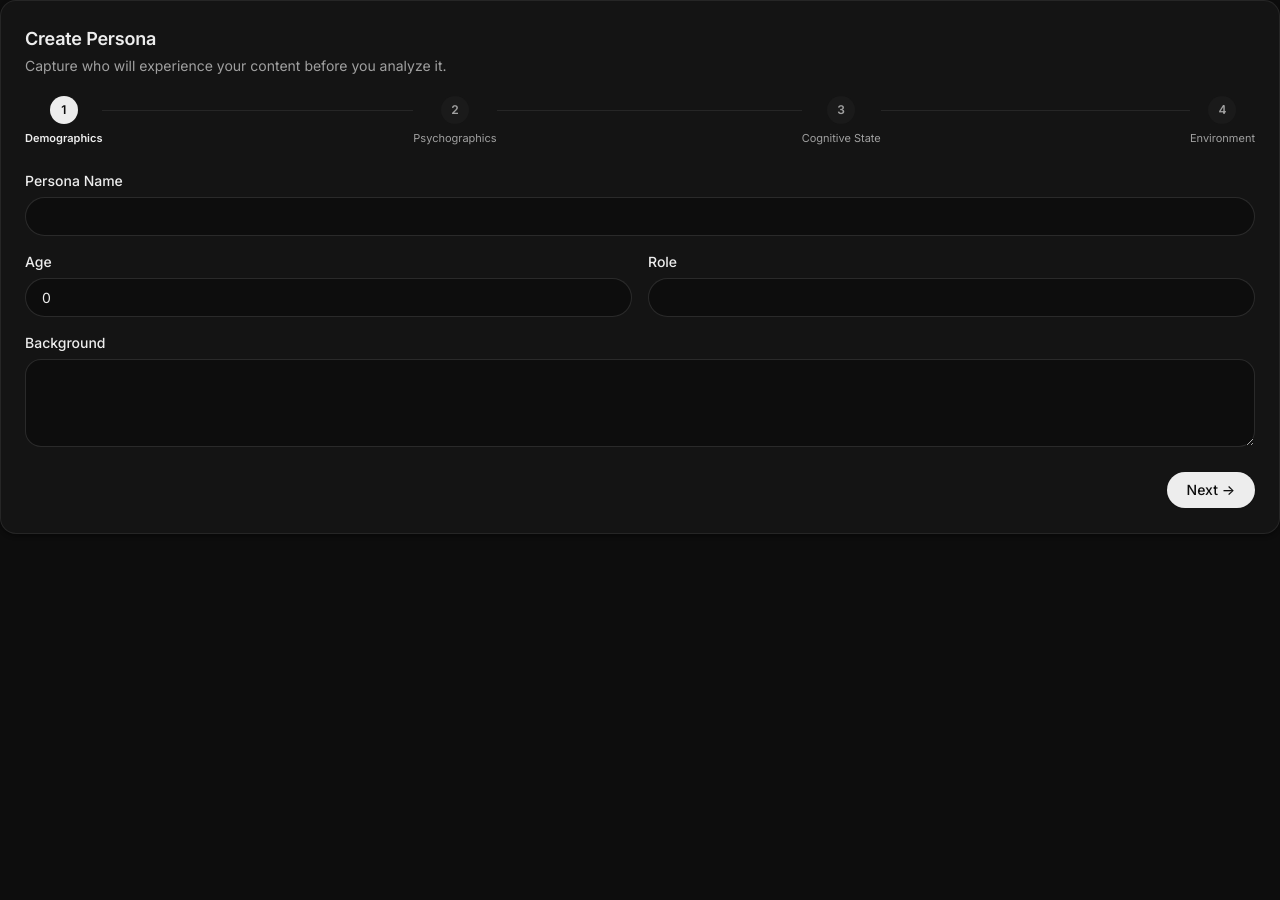
it: PersonaForm › advances to Psychographics step after valid demographics input
The image size is (1280, 900).
Type "Focused Designer" into the field labelled "Persona Name".
click(640, 216); type("Focused Designer")  # box [25,196,1255,236]
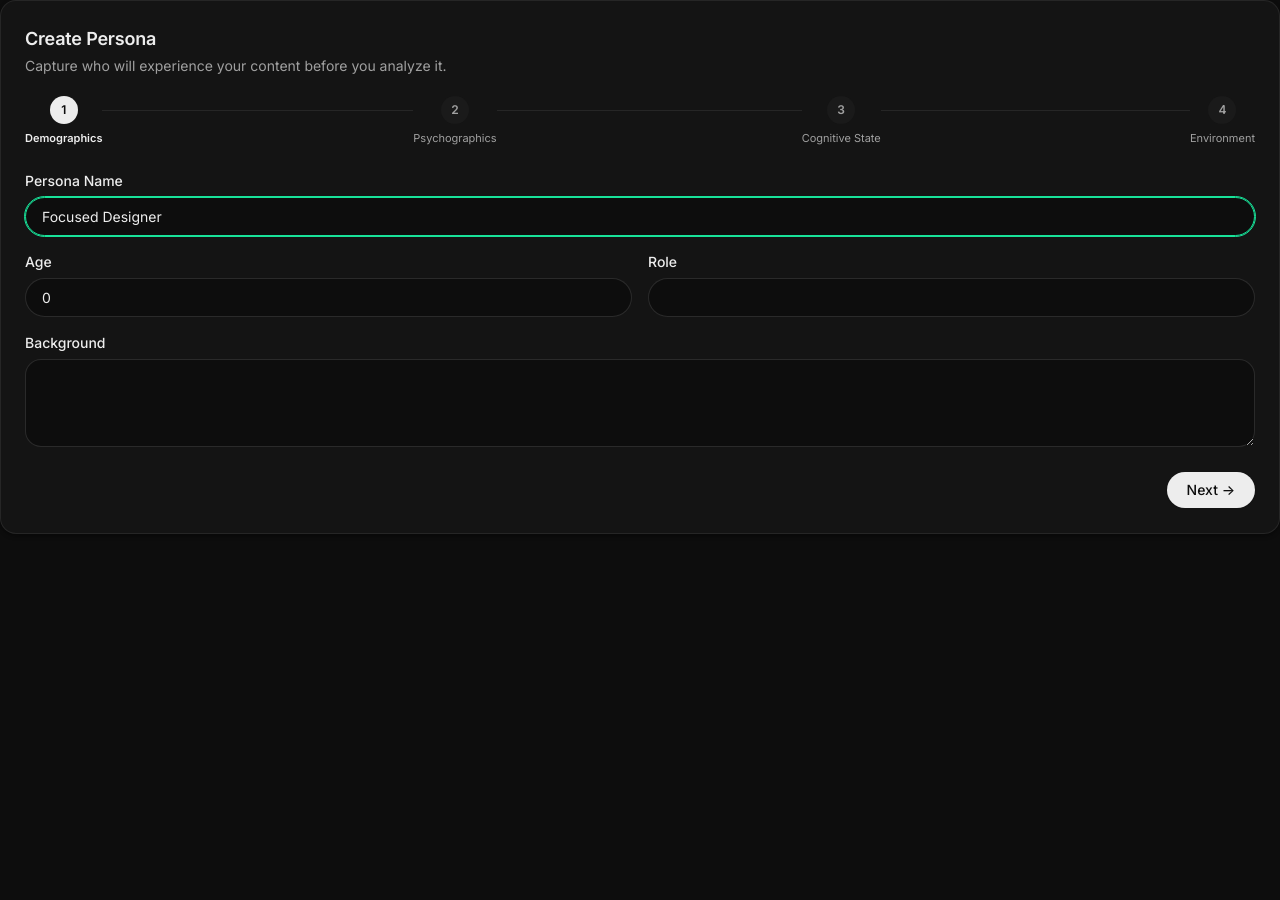
Type "29" into the number field labelled "Age".
click(328, 297); type("29")  # box [25,278,632,316]
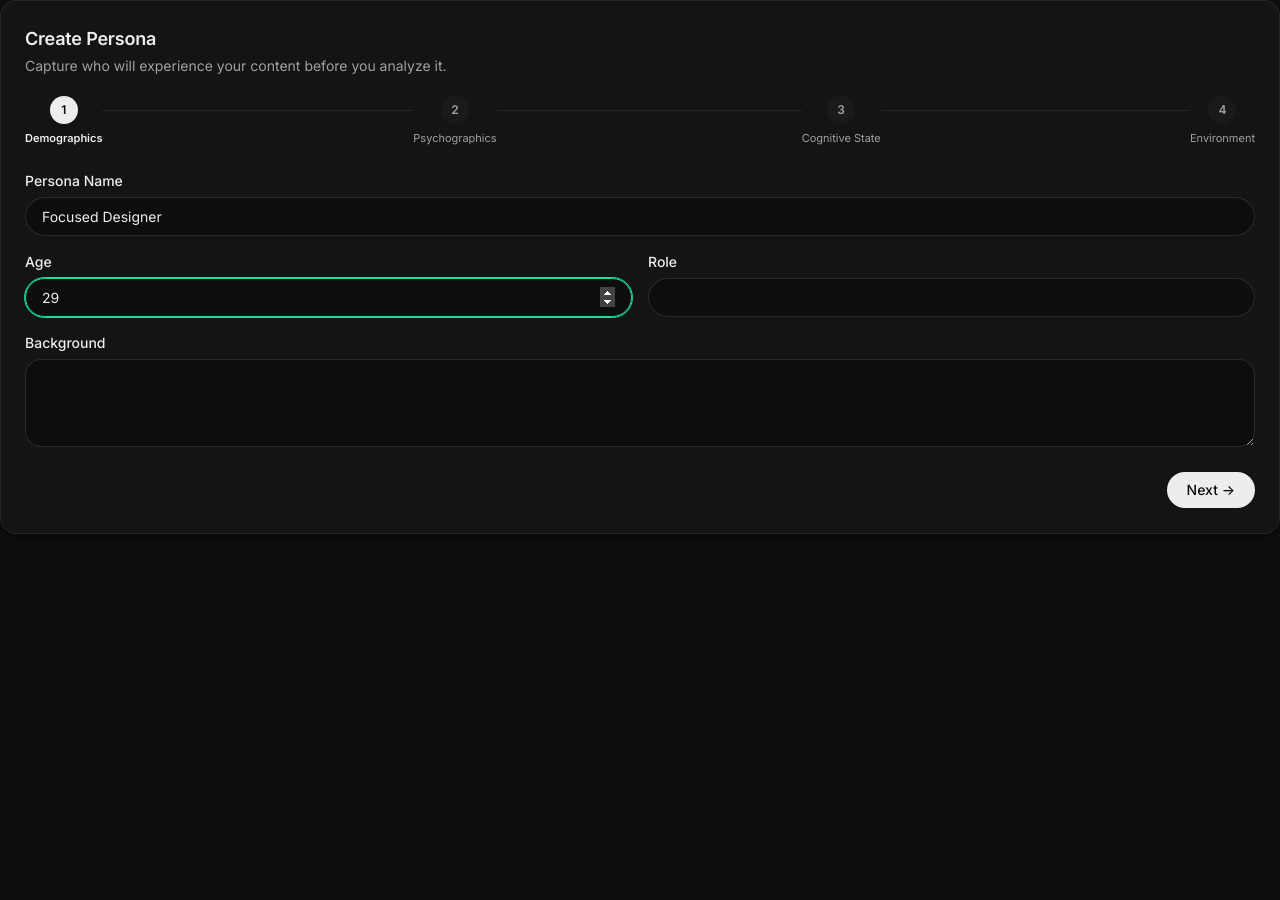
Type "Product Designer" into the field labelled "Role".
click(952, 297); type("Product Designer")  # box [648,278,1255,316]
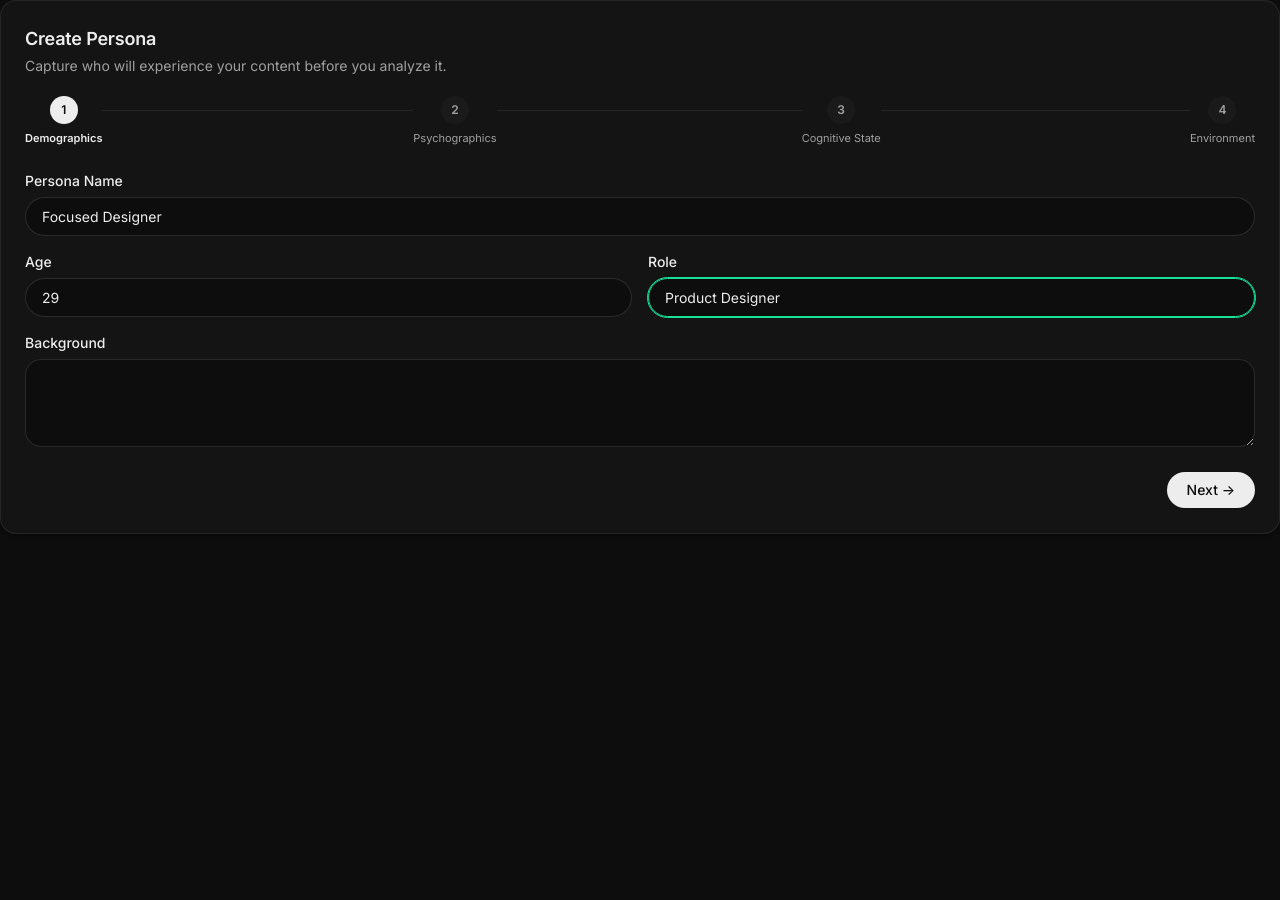
Click the button "Next →".
click(1211, 490)  # box [1167,472,1255,508]
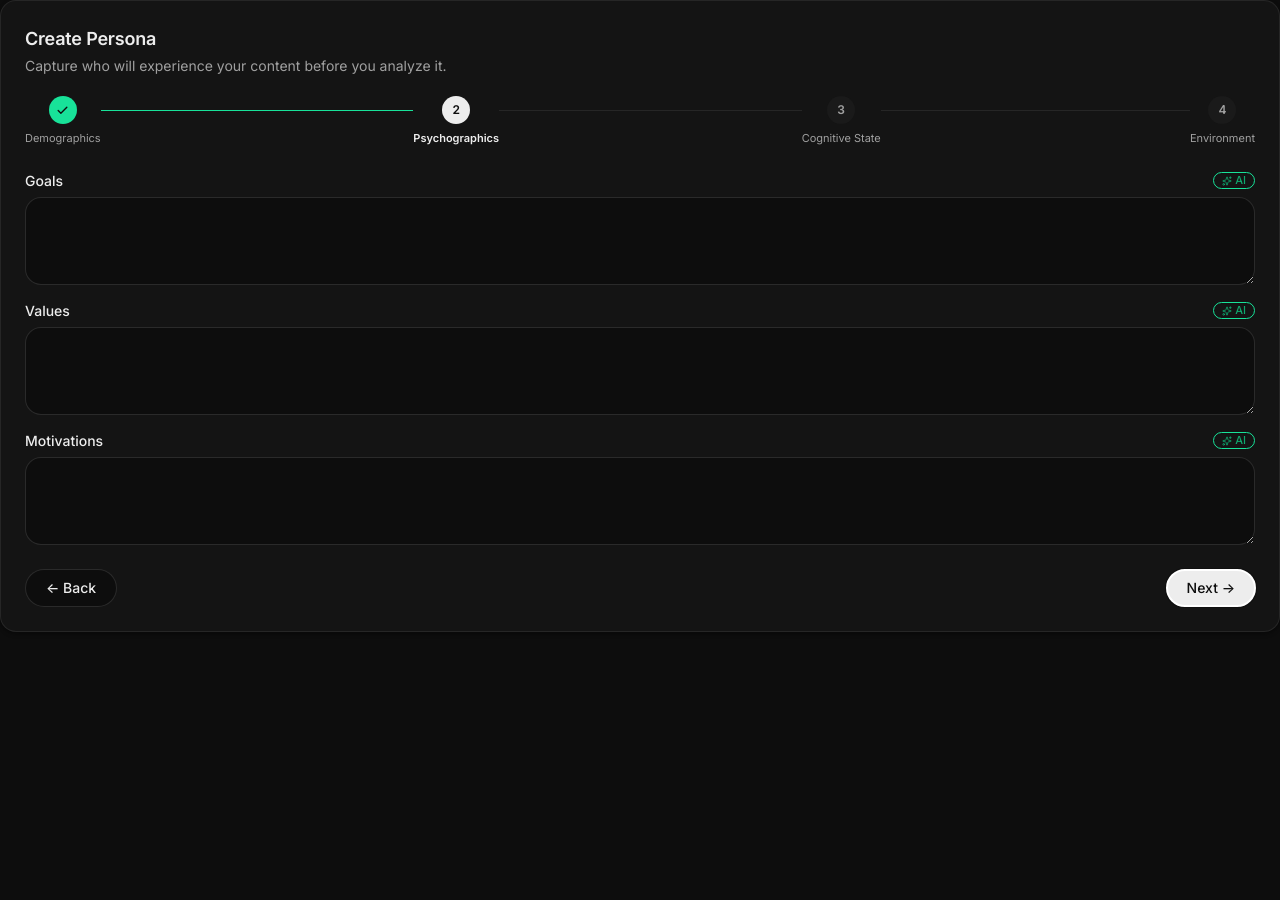
Expected: the text box labelled "Goals" is shown, [25,196,1255,284]
